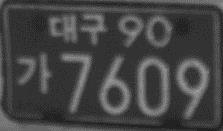0: (137, 56, 172, 117), (146, 14, 172, 48)
6: (98, 54, 132, 116)
7: (57, 51, 93, 114)
9: (175, 57, 210, 121), (117, 14, 144, 48)
가: (14, 51, 52, 95)
대구_O: (46, 11, 107, 45)
